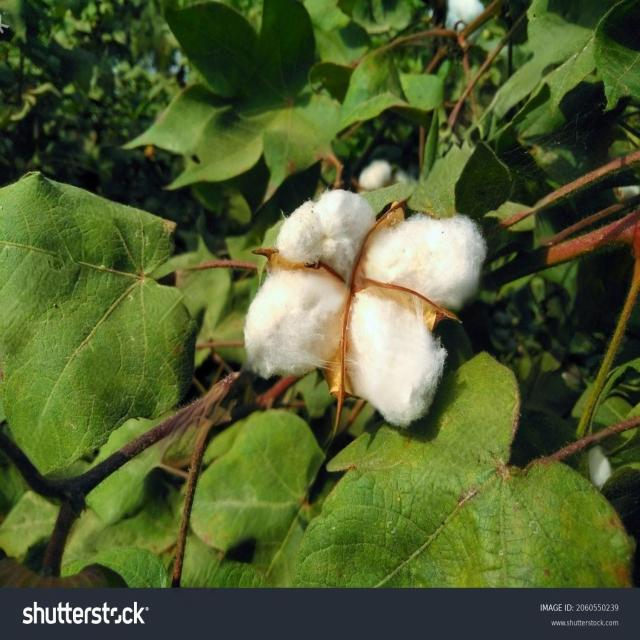Leaf: (234, 170, 506, 447)
